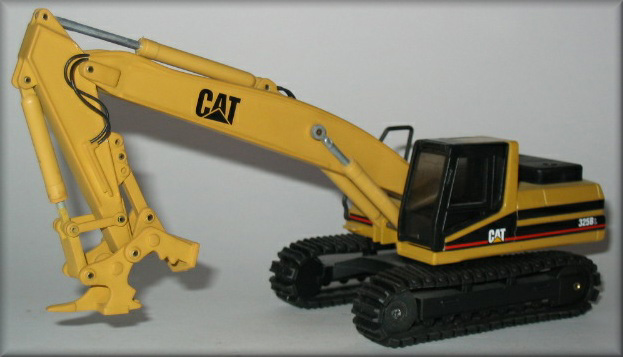backhoe: (12, 7, 615, 333)
